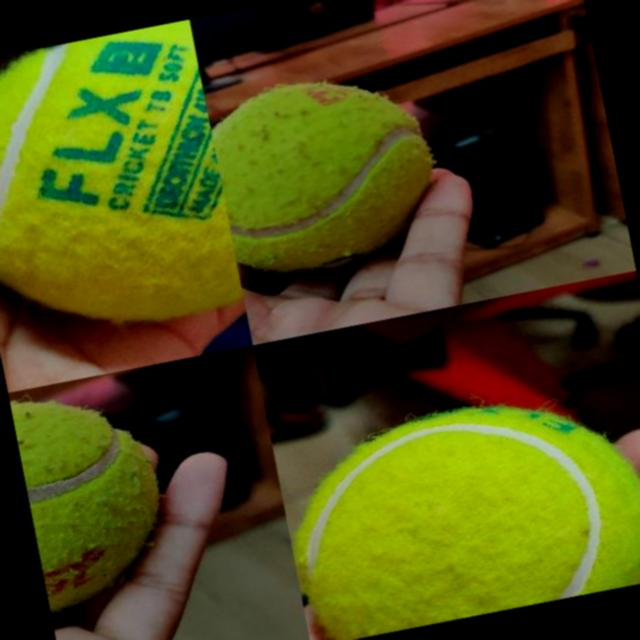tennis-ball: (274, 378, 640, 640), (0, 19, 243, 350), (205, 59, 448, 284), (11, 379, 178, 613)
